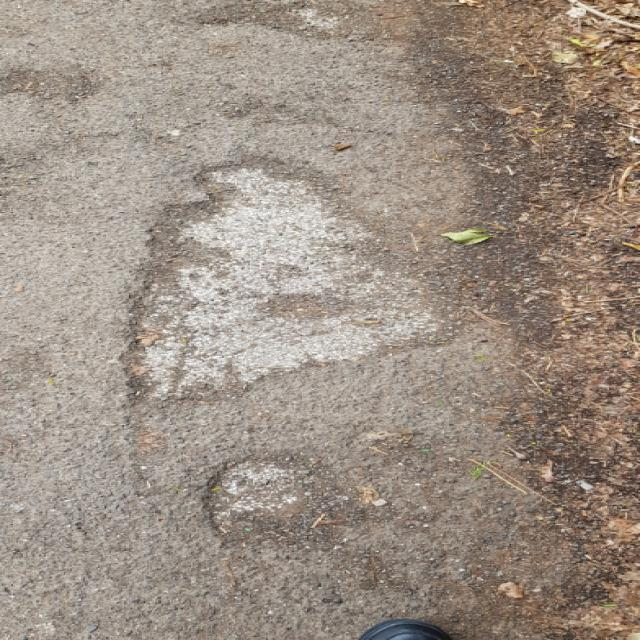Pothole: (109, 155, 468, 407), (197, 451, 367, 546)
